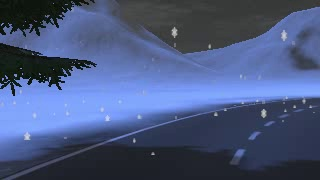Lane: (2, 97, 319, 179)
